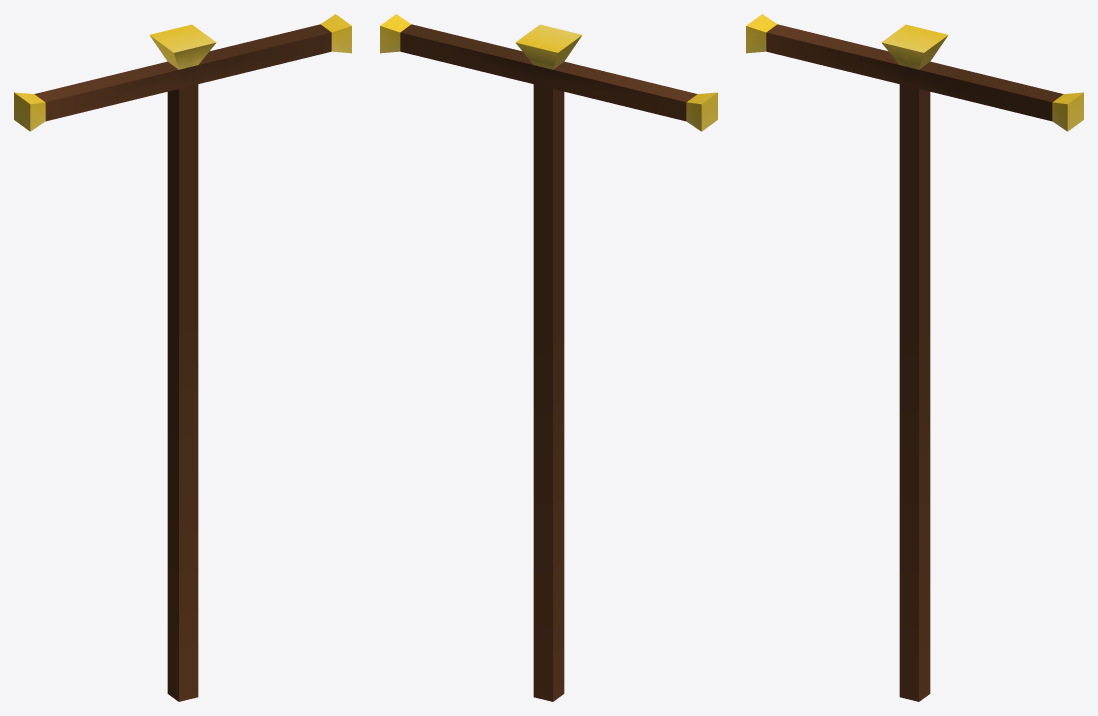
Rendered from PROP_016_BannerStand.fbx.
3 views of the same model, side by side, from view 1: azimuth 30°, elevation 25°; view 2: azimuth 150°, elevation 25°; view 3: azimuth 330°, elevation 25° (orthographic).
Visible parts, largest first — view 1: PROP_016_BannerStand; view 2: PROP_016_BannerStand; view 3: PROP_016_BannerStand.
Part boxes in pixels (<box>): PROP_016_BannerStand: <box>14,14,351,701</box>; PROP_016_BannerStand: <box>380,14,717,701</box>; PROP_016_BannerStand: <box>746,14,1083,701</box>.
Size of the model in its own units: 19.45 by 37.96 by 2.58.
